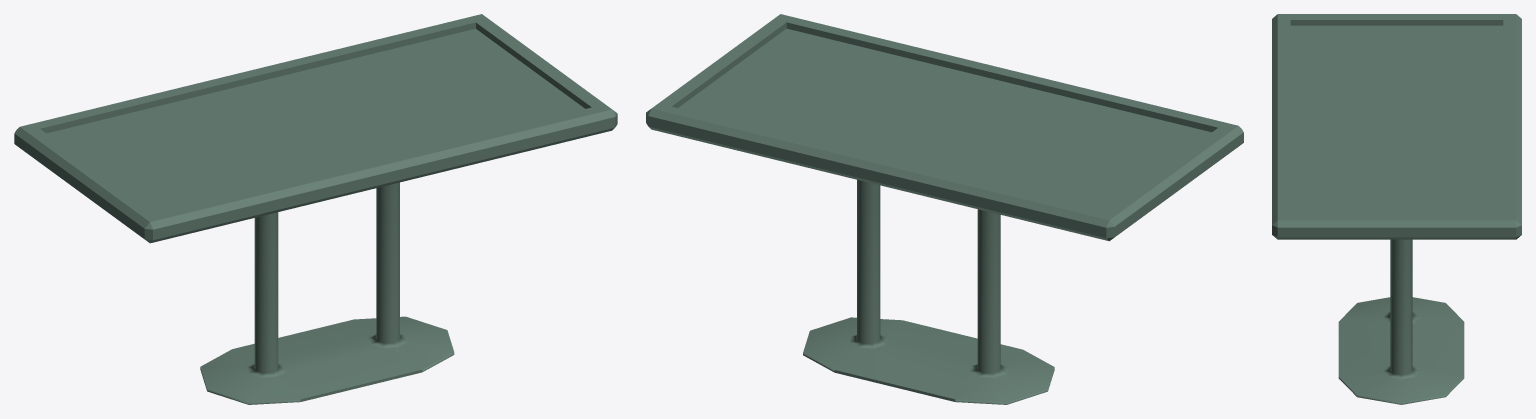
The model's file is longTable.fbx.
The picture shows the model from 3 angles, left to right: view 1: azimuth 30°, elevation 25°; view 2: azimuth 150°, elevation 25°; view 3: azimuth 270°, elevation 25°; orthographic projection. The views are drawn at different scales.
Parts seen in each view (by area): view 1: longTable; view 2: longTable; view 3: longTable.
Boxes of the visible parts, x1,y1,x2,y2 form: longTable: [14, 14, 617, 404]; longTable: [646, 14, 1243, 404]; longTable: [1272, 14, 1521, 404].
Bounding box in the file's own units: 1.27 × 0.6386 × 0.634.
